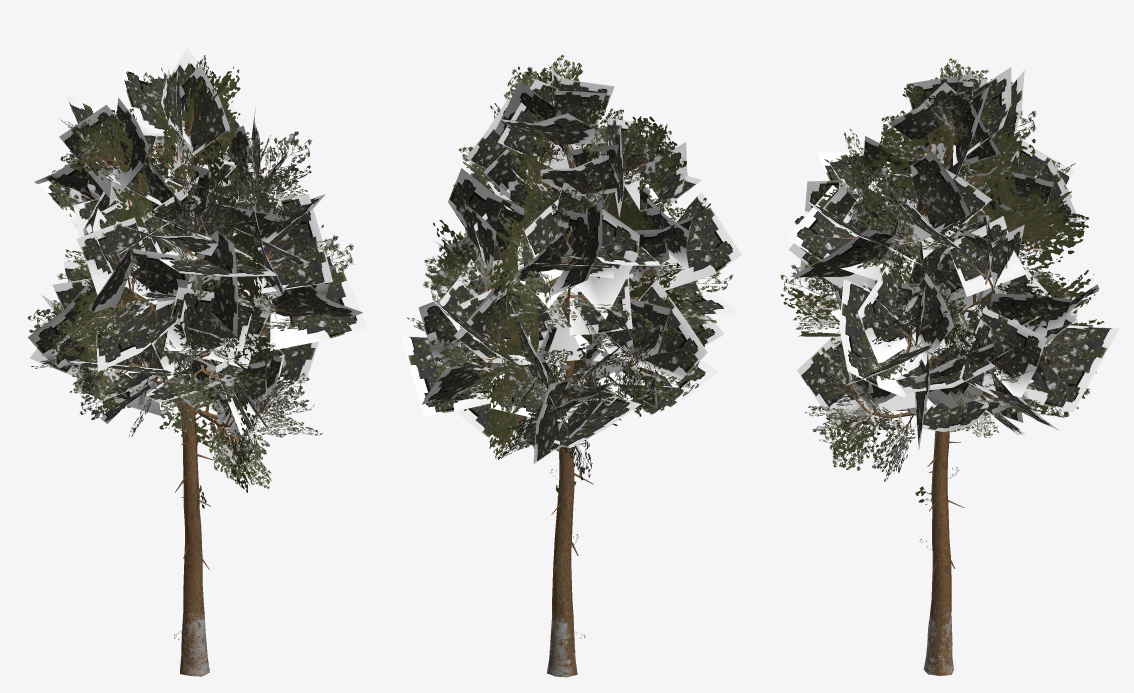
File: Pine1.fbx
3 renders of one model, left to right at view 1: azimuth 30°, elevation 25°; view 2: azimuth 150°, elevation 25°; view 3: azimuth 270°, elevation 25°, orthographic.
Parts seen in each view (by area): view 1: LOD0, Billboard; view 2: LOD0, Billboard; view 3: LOD0, Billboard.
Boxes of the visible parts, x1,y1,x2,y2 form: LOD0: [27, 47, 367, 676]; Billboard: [51, 68, 323, 637]; LOD0: [402, 54, 741, 677]; Billboard: [433, 63, 705, 638]; LOD0: [780, 58, 1119, 675]; Billboard: [781, 84, 1104, 522].
Size of what is drawn, in the model's own units: 609 by 1179 by 622.
